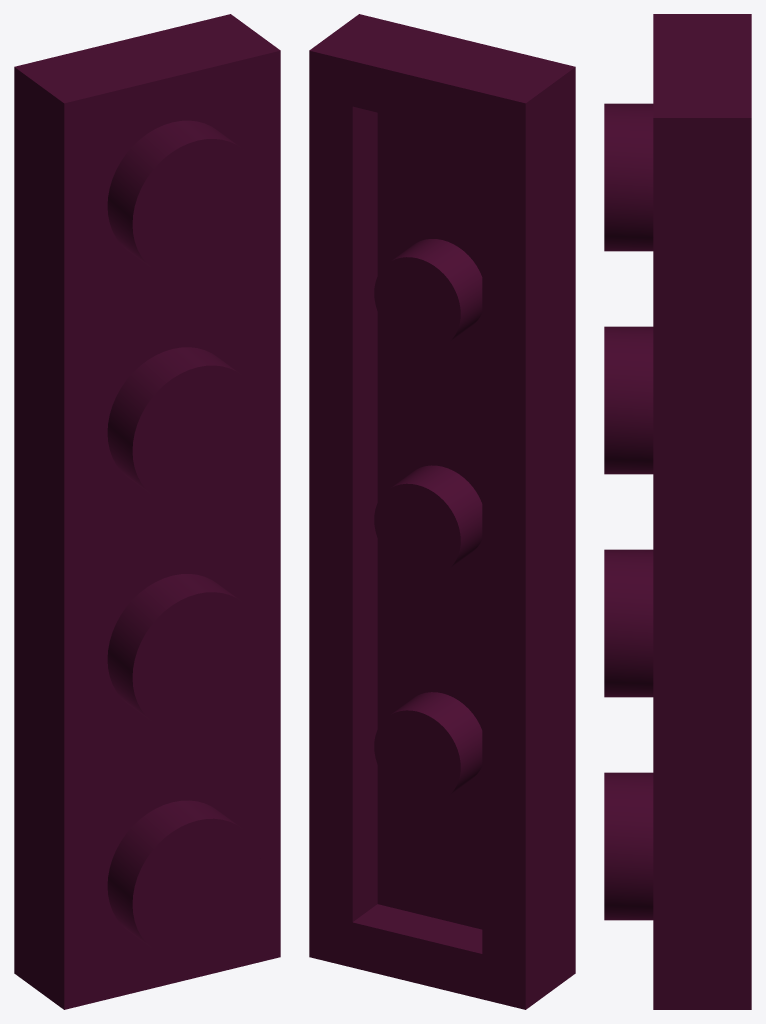
The model's file is plate1*4_magenta.obj.
3 renders of one model, left to right at view 1: azimuth 30°, elevation 25°; view 2: azimuth 150°, elevation 25°; view 3: azimuth 270°, elevation 25°, orthographic.
Size of the model in its own units: 20 by 80 by 12.
